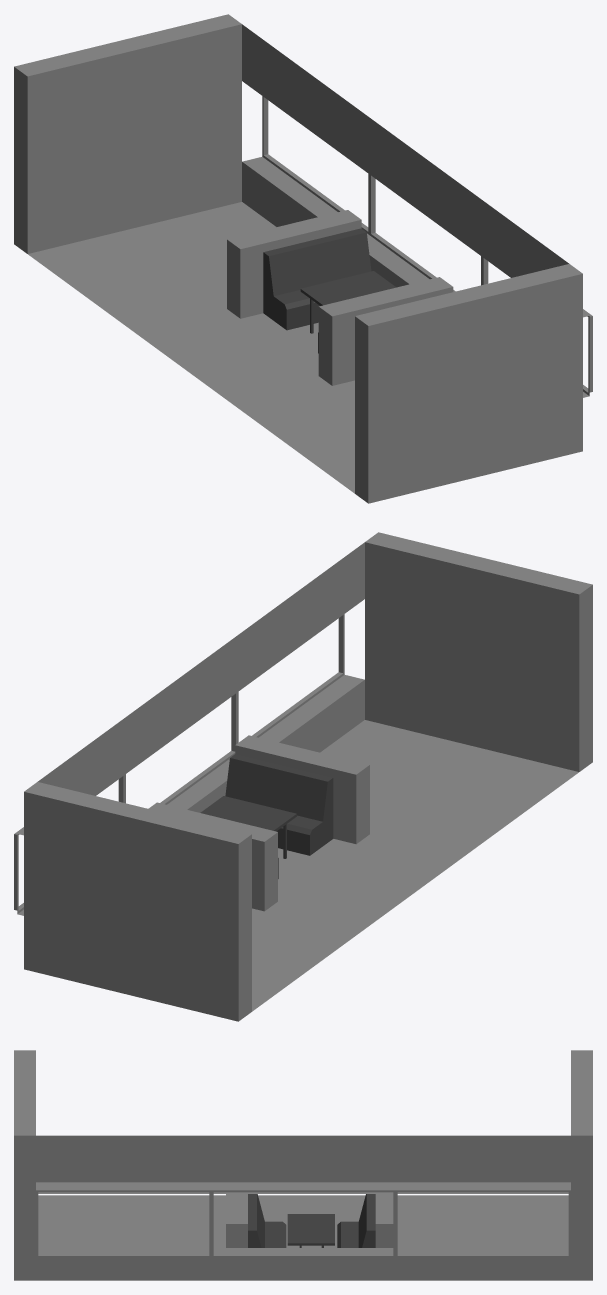
File: scene_cafe_separate_test.gltf
3 views of the same model, one above another, from view 1: azimuth 30°, elevation 25°; view 2: azimuth 150°, elevation 25°; view 3: azimuth 270°, elevation 25° (orthographic). The views are drawn at different scales.
Visible parts, largest first — view 1: scene_1; view 2: scene_1; view 3: scene_1.
Boxes of the visible parts, bbox=[...] form: scene_1: bbox=[14, 14, 592, 503]; scene_1: bbox=[14, 532, 592, 1021]; scene_1: bbox=[14, 1050, 592, 1280].
Bounding box in the file's own units: 5.2 × 3.69 × 13.33.
2 materials, 2 textured.
